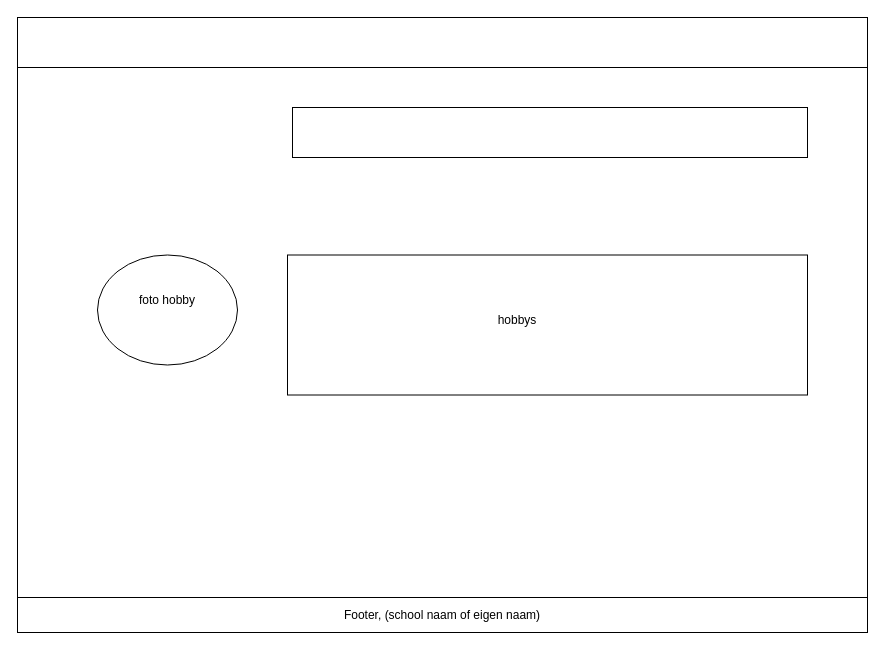
Some shapes in this 885 by 650 pixel diagram are drawn without their labels. Here are the shapes that lost their labels. From the top down, the box of each, then its label:
(16, 16, 868, 68): nav bar
(292, 106, 808, 158): algemeene informatie, naam, leeftijd
